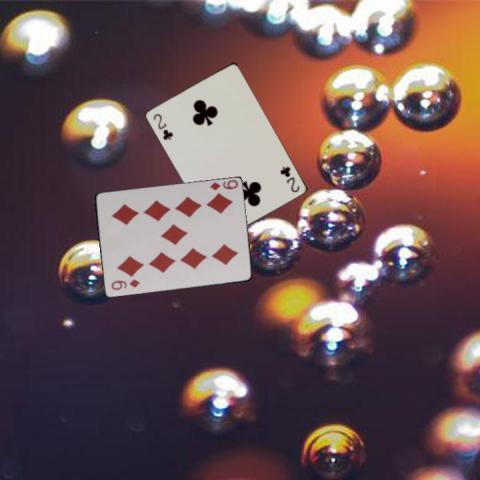2c: (276, 163, 300, 194), (150, 111, 174, 141)
9d: (207, 177, 239, 192), (108, 277, 141, 291)
